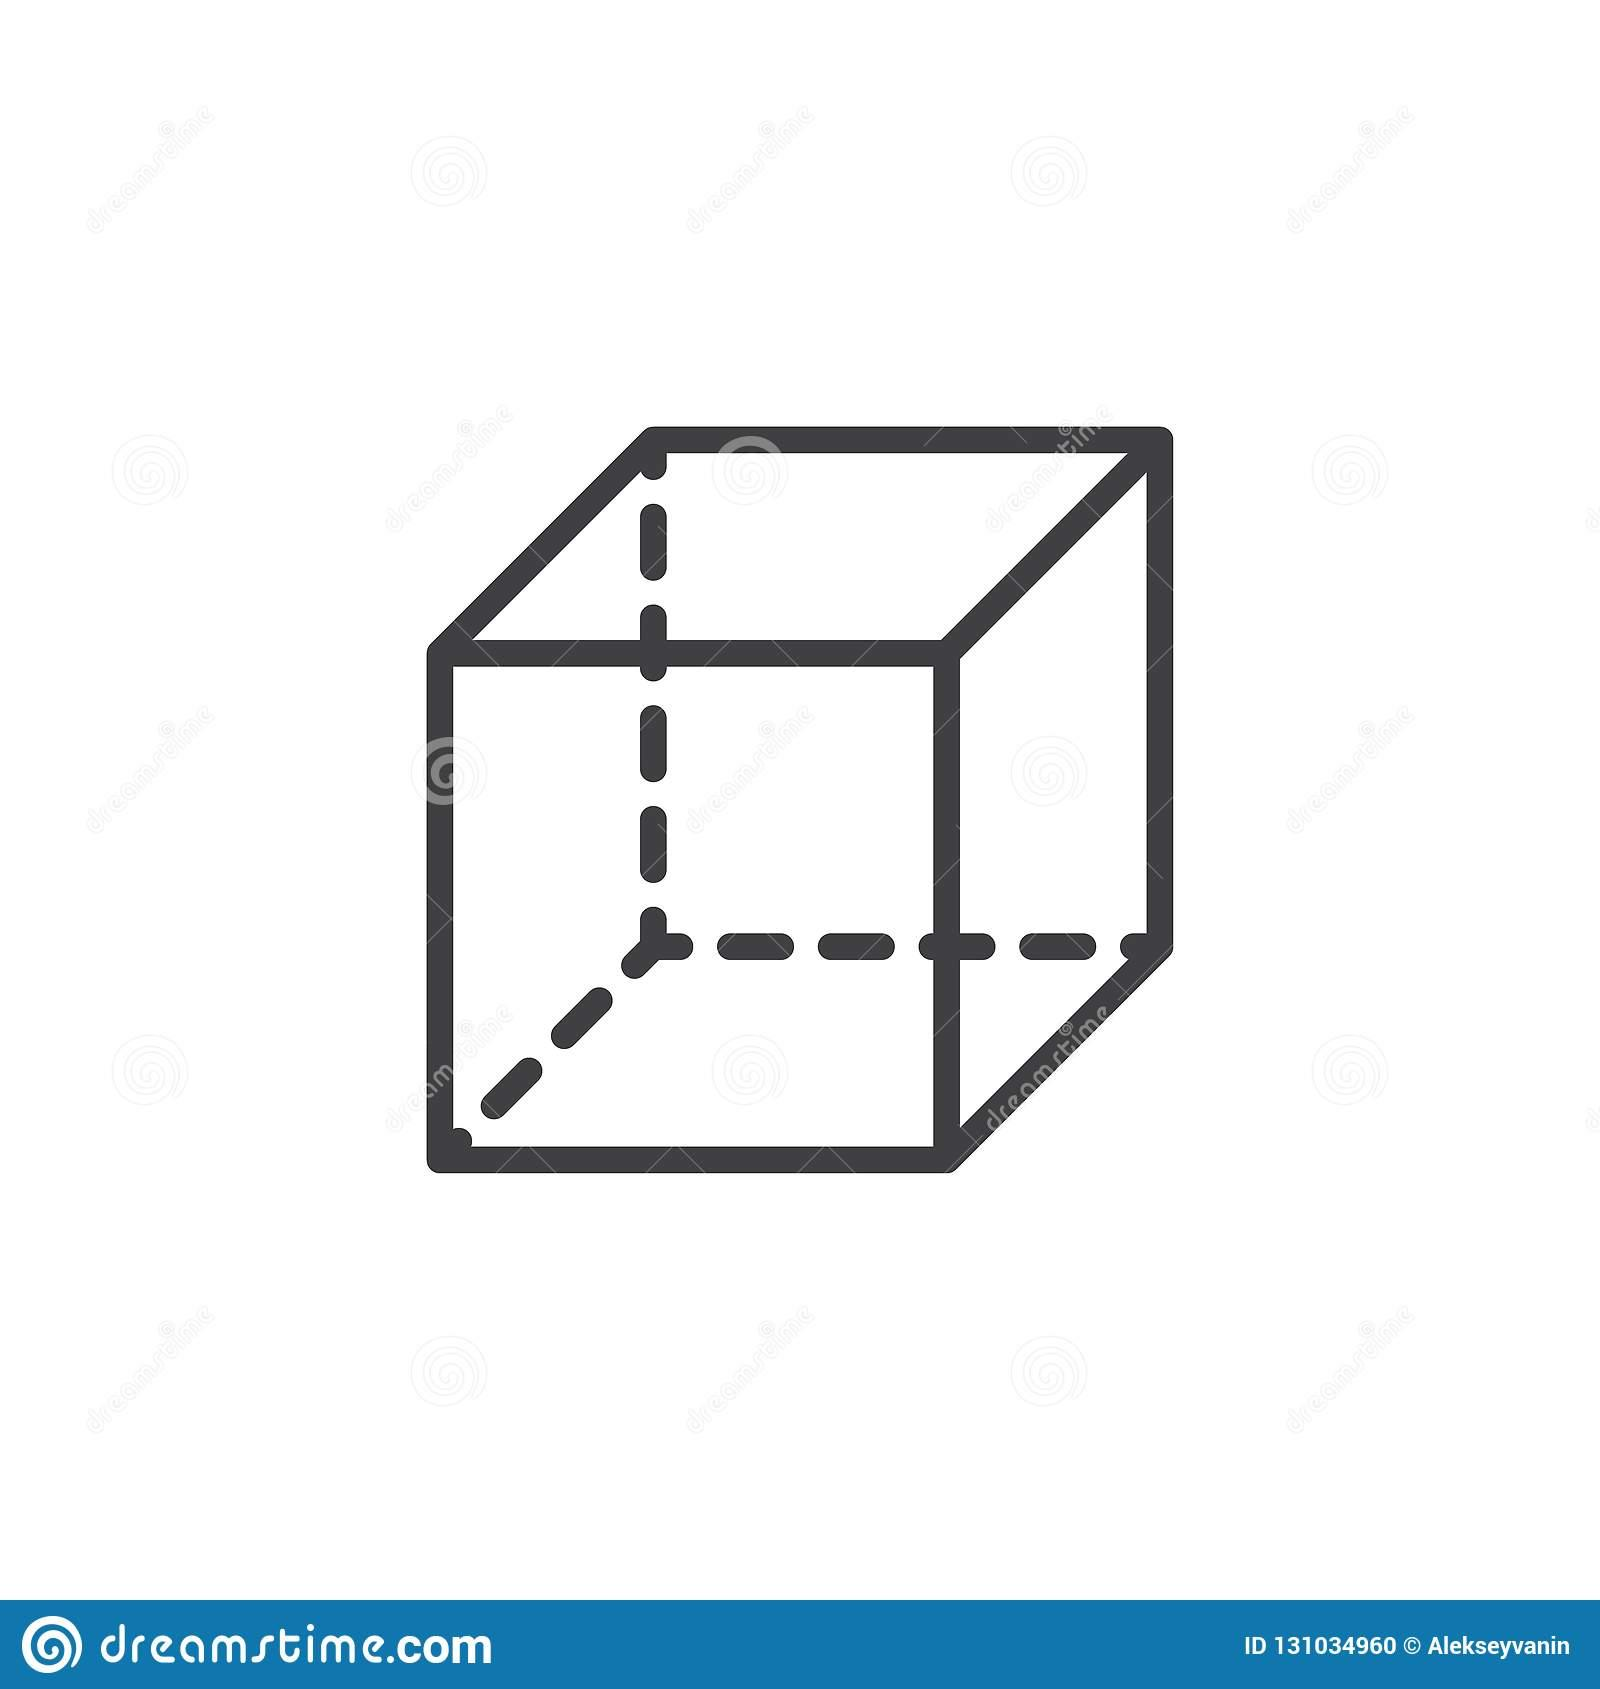cubos: (374, 385, 1245, 1205)
